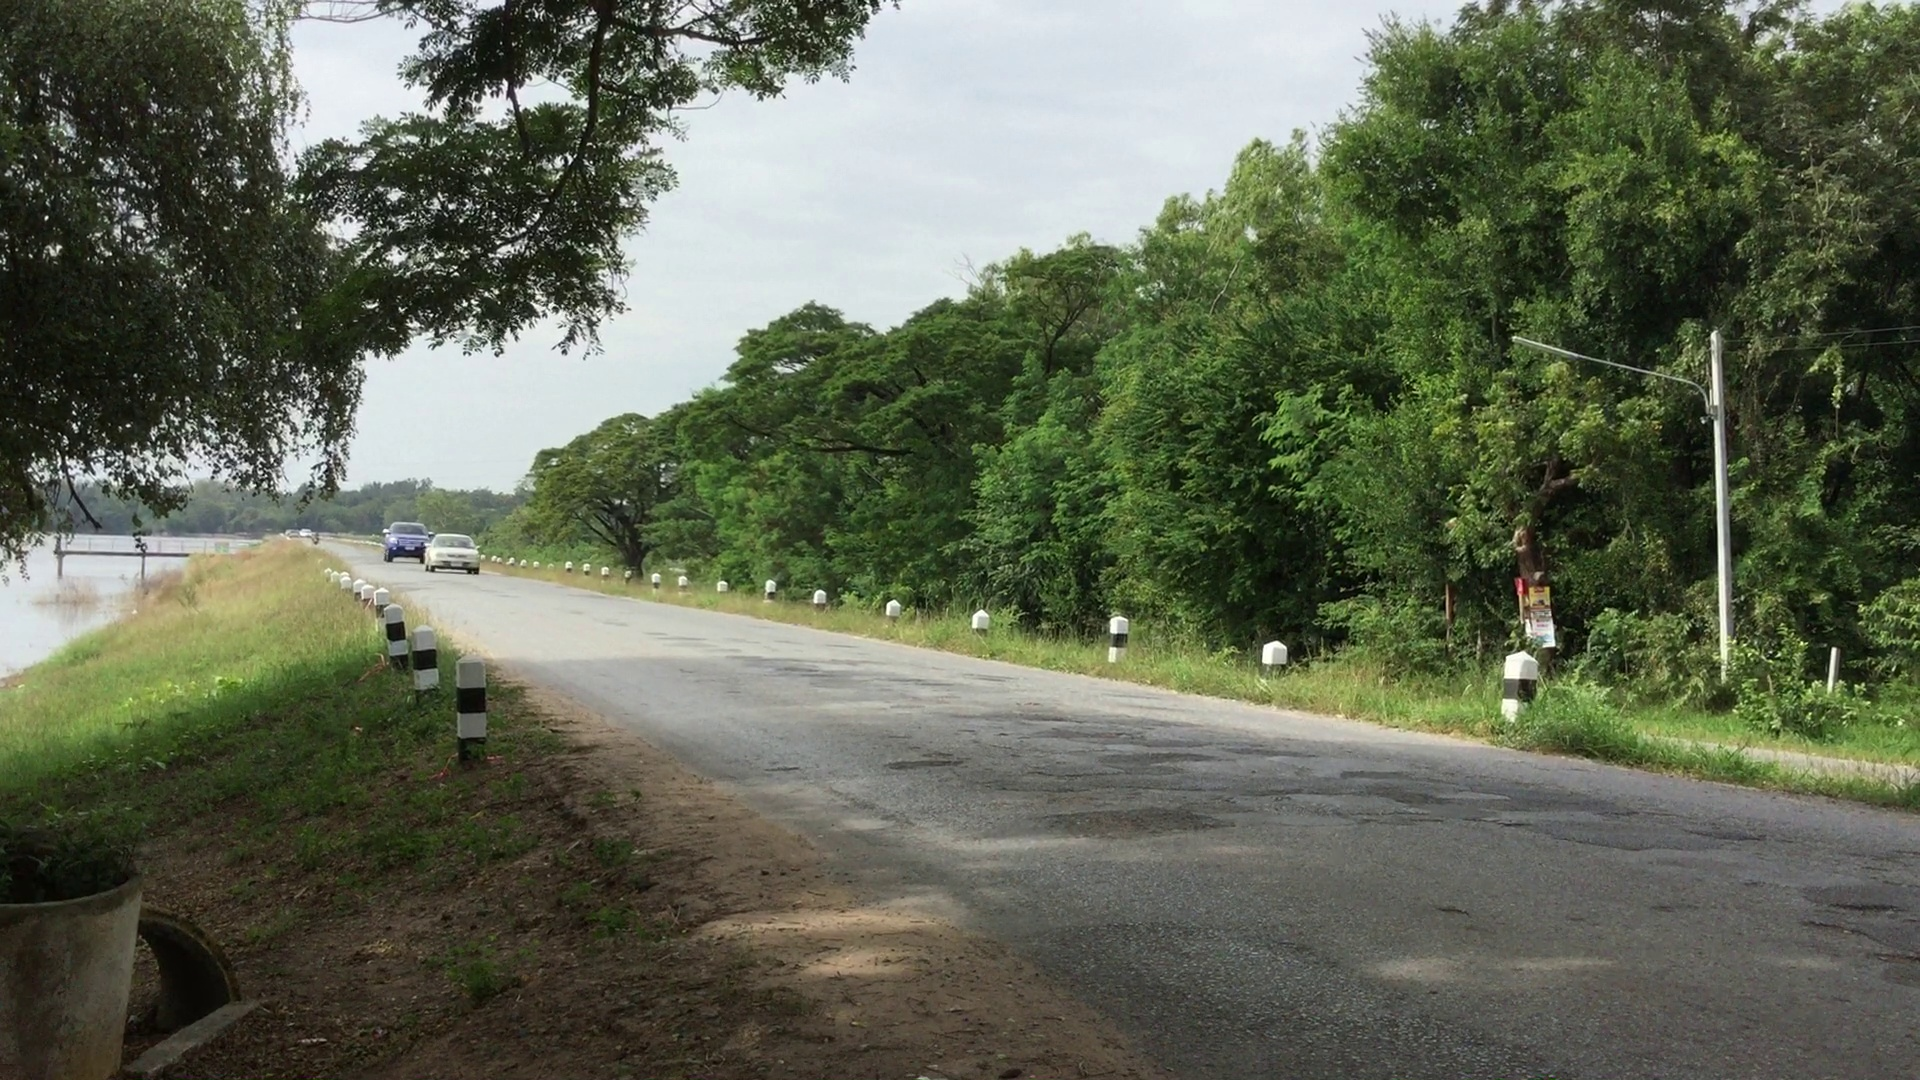car: (421, 531, 481, 575), (382, 525, 430, 563)
